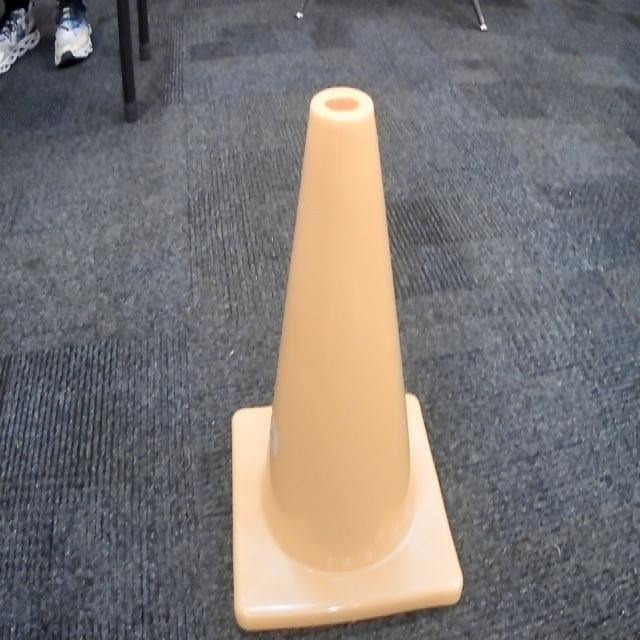cone: (229, 84, 464, 640)
